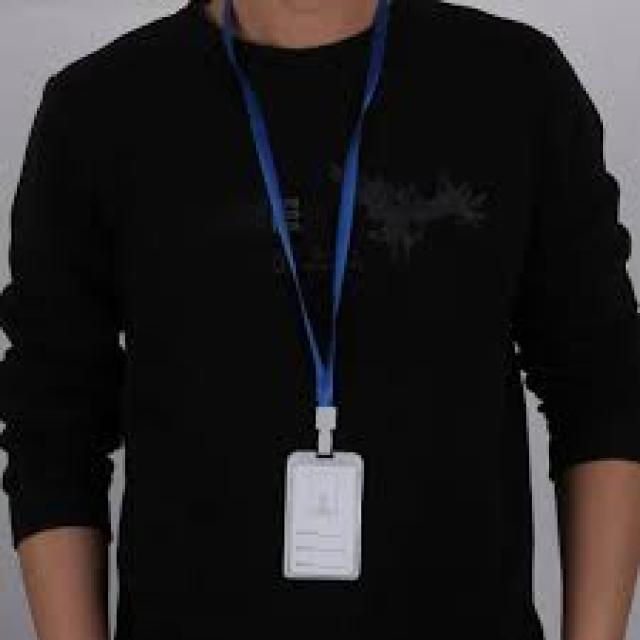id_card: (210, 19, 415, 593)
